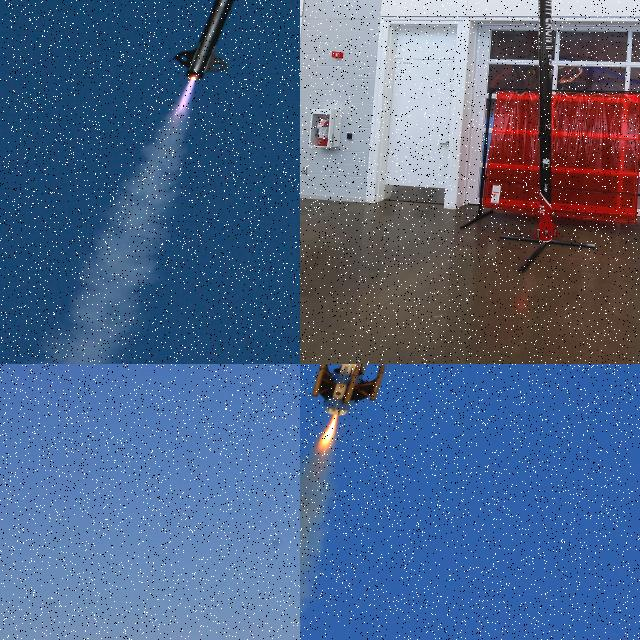Rocket: (533, 0, 559, 241), (169, 0, 244, 80), (310, 364, 399, 416)
